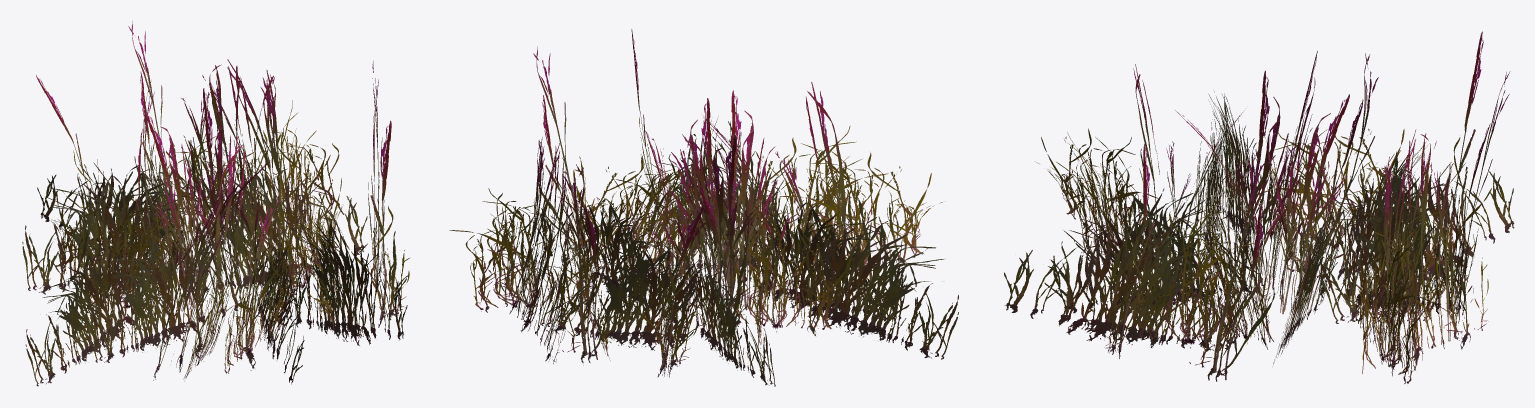
The picture shows the model from 3 angles, left to right: view 1: azimuth 30°, elevation 25°; view 2: azimuth 150°, elevation 25°; view 3: azimuth 270°, elevation 25°; orthographic projection. The views are drawn at different scales.
Parts seen in each view (by area): view 1: SM_HL_WildGrass_01_LOD0; view 2: SM_HL_WildGrass_01_LOD0; view 3: SM_HL_WildGrass_01_LOD0.
Part boxes in pixels (x1,y1,x2,y2): SM_HL_WildGrass_01_LOD0: (22, 21, 409, 386); SM_HL_WildGrass_01_LOD0: (449, 29, 958, 386); SM_HL_WildGrass_01_LOD0: (1004, 31, 1514, 383).
Bounding box in the file's own units: 0.8532 × 0.4995 × 0.8259.
Materials: 1 (1 with a texture image).
